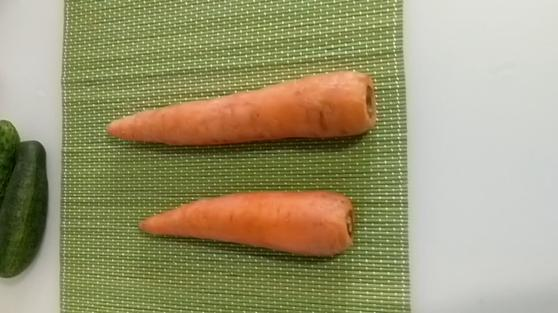carrot: (109, 70, 374, 138), (136, 188, 360, 262)
cucumber: (2, 135, 54, 283)
